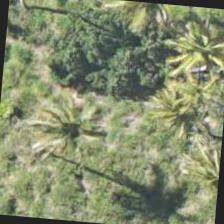Kelapa_Sawit: (14, 80, 112, 178), (137, 60, 223, 158), (148, 124, 223, 219), (152, 4, 223, 86)
